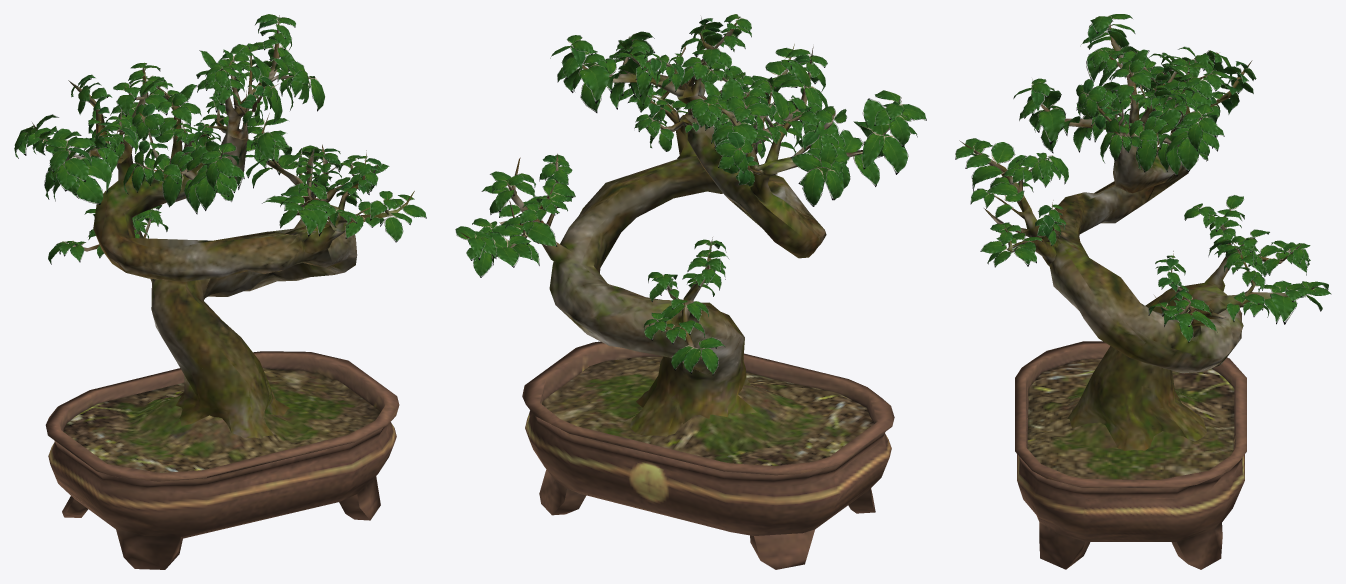
Rendered from bonsai.glb.
3 renders of one model, left to right at view 1: azimuth 30°, elevation 25°; view 2: azimuth 150°, elevation 25°; view 3: azimuth 270°, elevation 25°, orthographic. The views are drawn at different scales.
Parts seen in each view (by area): view 1: Cube; view 2: Cube; view 3: Cube.
Boxes of the visible parts, x1,y1,x2,y2 form: Cube: [14, 14, 426, 569]; Cube: [455, 14, 926, 569]; Cube: [955, 14, 1331, 569].
Bounding box in the file's own units: 0.5474 × 0.6419 × 0.4809.
3 materials, 3 textured.
